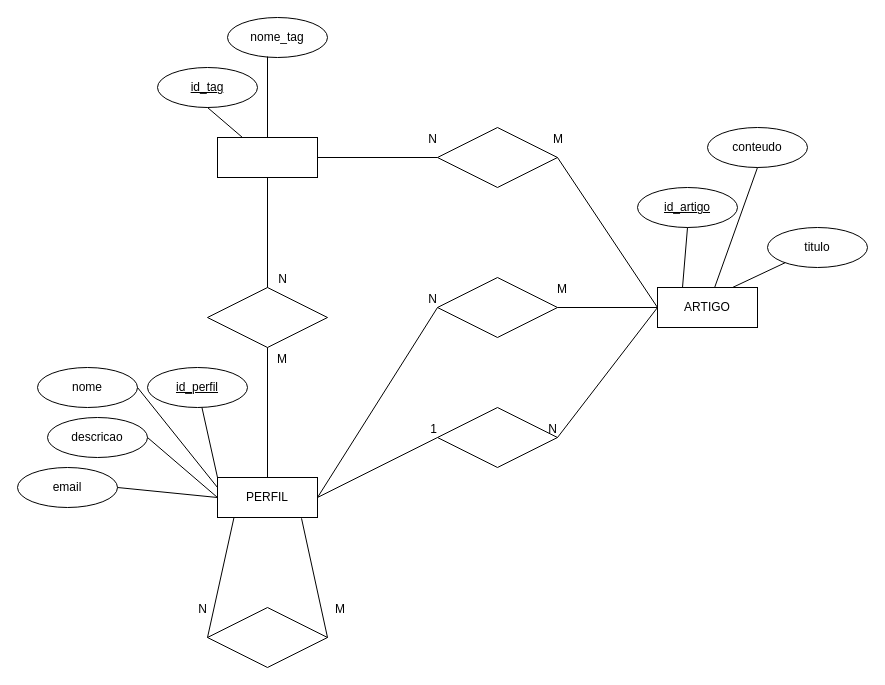
Some shapes in this 885 by 685 pixel diagram are drawn without their labels. Here are the shapes that lost their labels. From the top down, the centre of each, then its label:
At point (267, 157): "TAG".
At point (497, 157): "CONTEM".
At point (267, 317): "INTERESSA".
At point (497, 307): "FAVORITA".
At point (497, 437): "ESCREVE".
At point (267, 637): "SEGUE".
